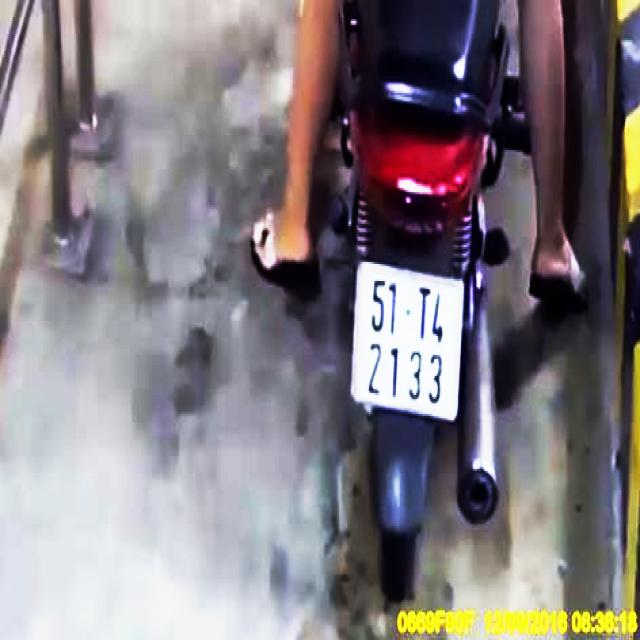license_plate: (352, 262, 467, 421)
